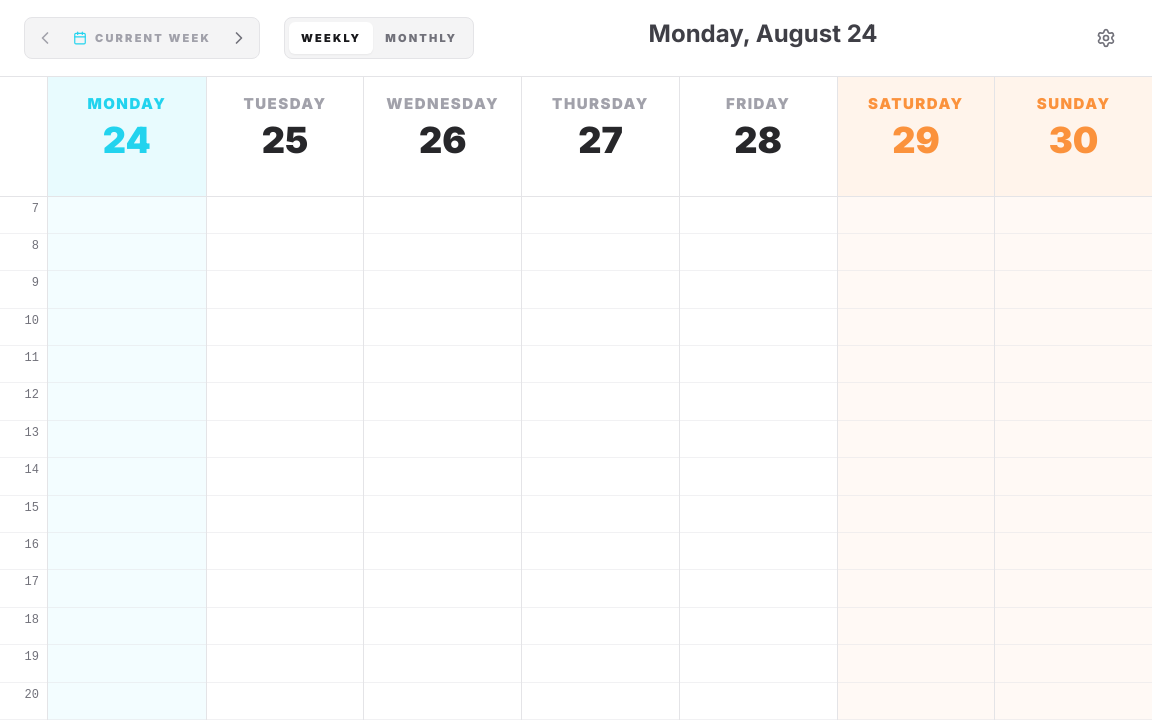
Test: Dashboard launch › a settings file busy at launch: the week shown and the days fetched agree (week start "today")
This screenshot has width=1152, height=720.
Click the button with test id "next-week-button" at x=239, y=38, box [223,22,255,54]
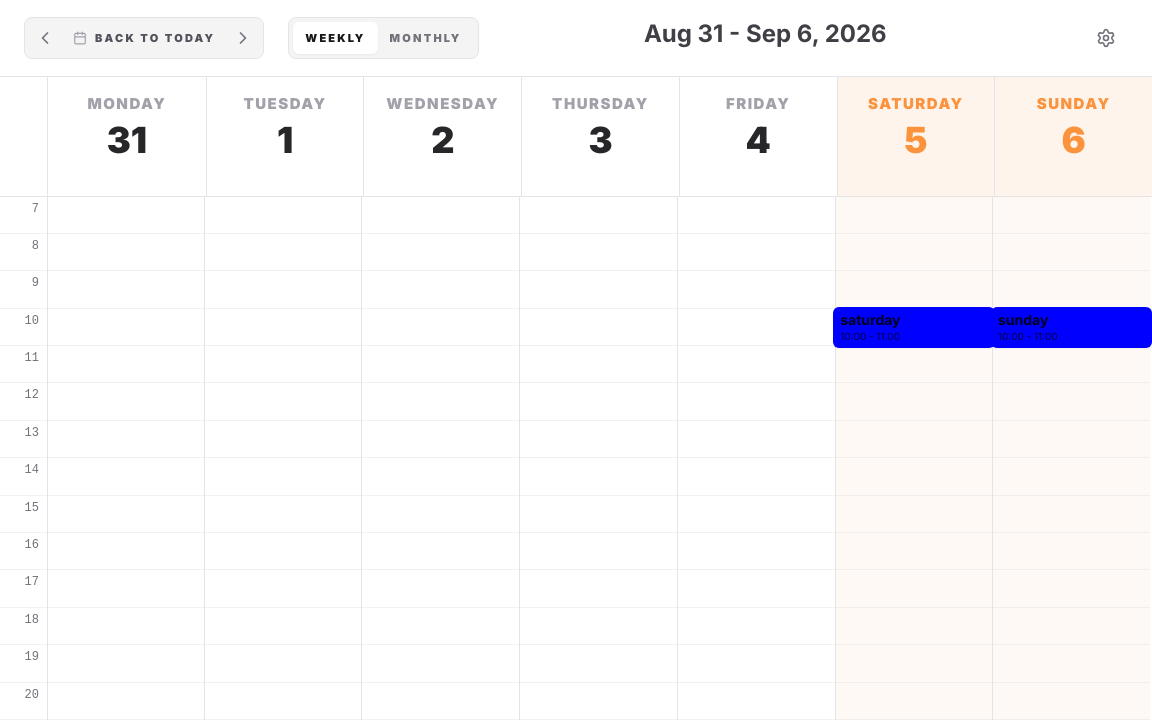
Now the element with test id "event-card-saturday" is shown, box [833,307,995,348]
Now the element with test id "event-card-sunday" is shown, box [991,307,1151,348]
